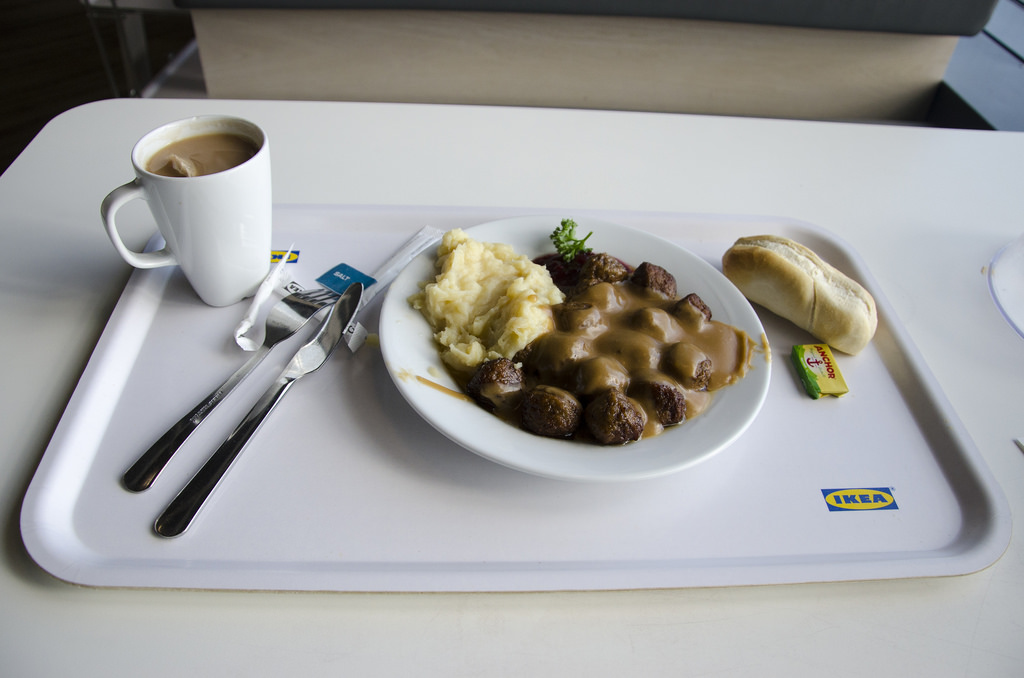meatballs: (575, 267, 683, 421)
slice of bread: (729, 223, 875, 339)
